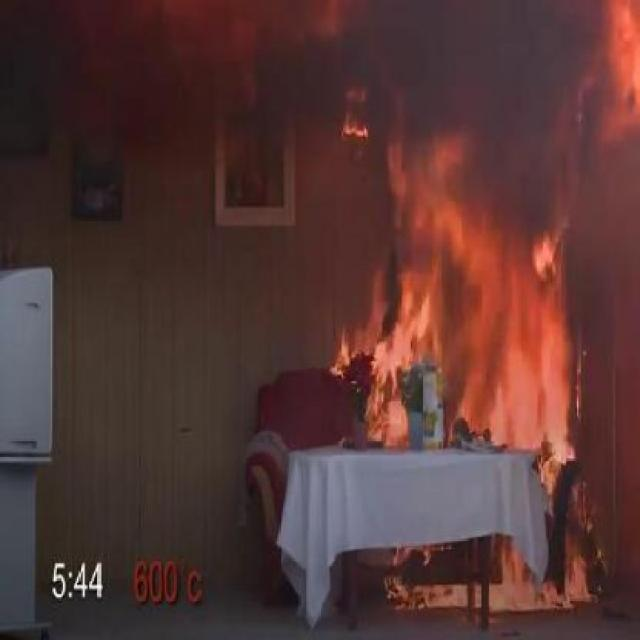fire: (321, 245, 610, 621)
smoke: (12, 3, 363, 168), (377, 57, 591, 225), (524, 0, 640, 174)
